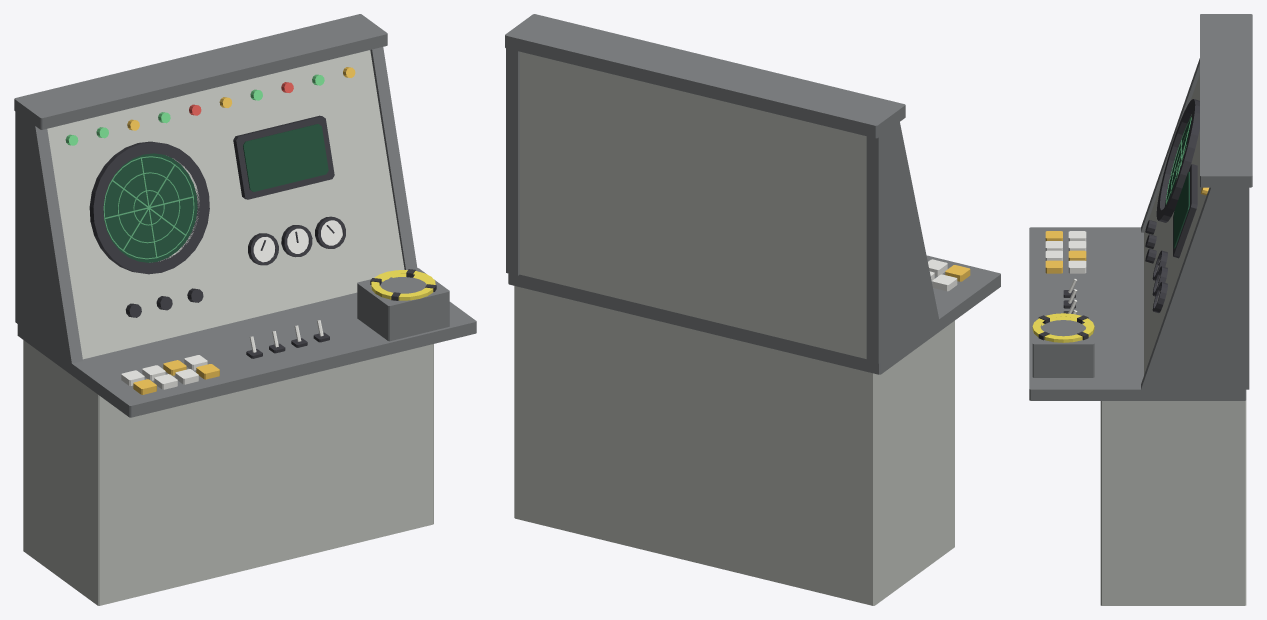
File: console-radar.fbx
3 views of the same model, side by side, from view 1: azimuth 30°, elevation 25°; view 2: azimuth 150°, elevation 25°; view 3: azimuth 270°, elevation 25° (orthographic). The views are drawn at different scales.
Visible parts, largest first — view 1: ConsoleRadar; view 2: ConsoleRadar; view 3: ConsoleRadar.
Boxes of the visible parts, x1,y1,x2,y2 form: ConsoleRadar: (14,14,476,605); ConsoleRadar: (505,14,1000,605); ConsoleRadar: (1029,14,1252,605).
Size of the model in its own units: 1.24 by 1.54 by 0.72.
1 material, 1 textured.
